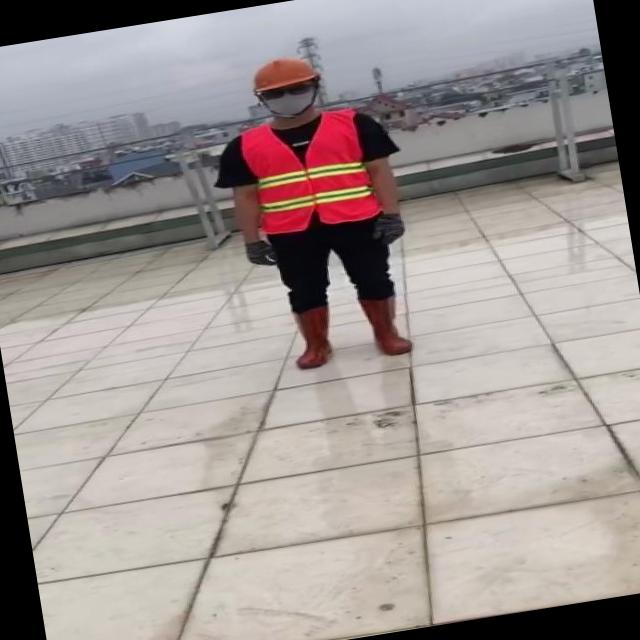boots: (360, 292, 417, 362), (288, 304, 338, 374)
gloves: (346, 193, 430, 253), (216, 225, 287, 277)
helmet: (243, 51, 322, 95)
vest: (237, 107, 385, 238)
